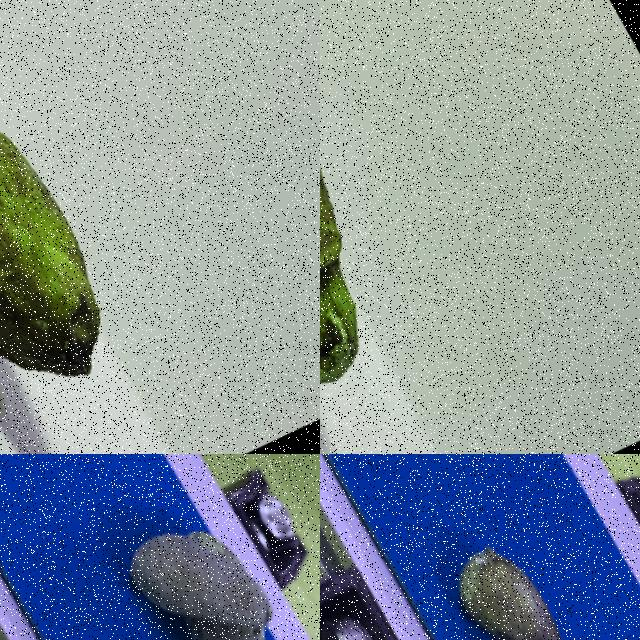Agglomerated_cocoabeans: (320, 0, 510, 453), (27, 454, 319, 639)
Fine_cocoabeans: (0, 0, 199, 453), (375, 456, 607, 639)
